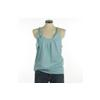canottiera: (34, 28, 64, 74)
